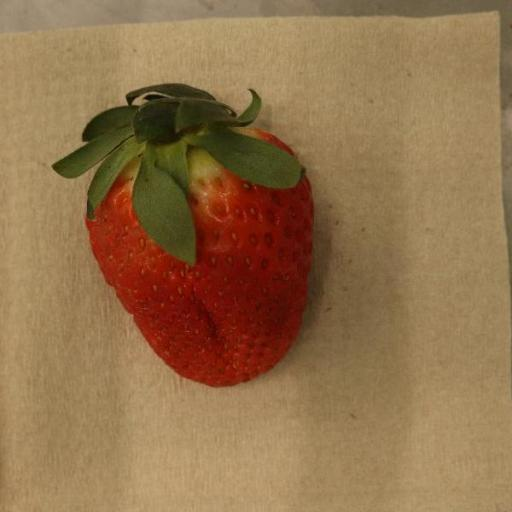Strawberry: (52, 84, 315, 389)
